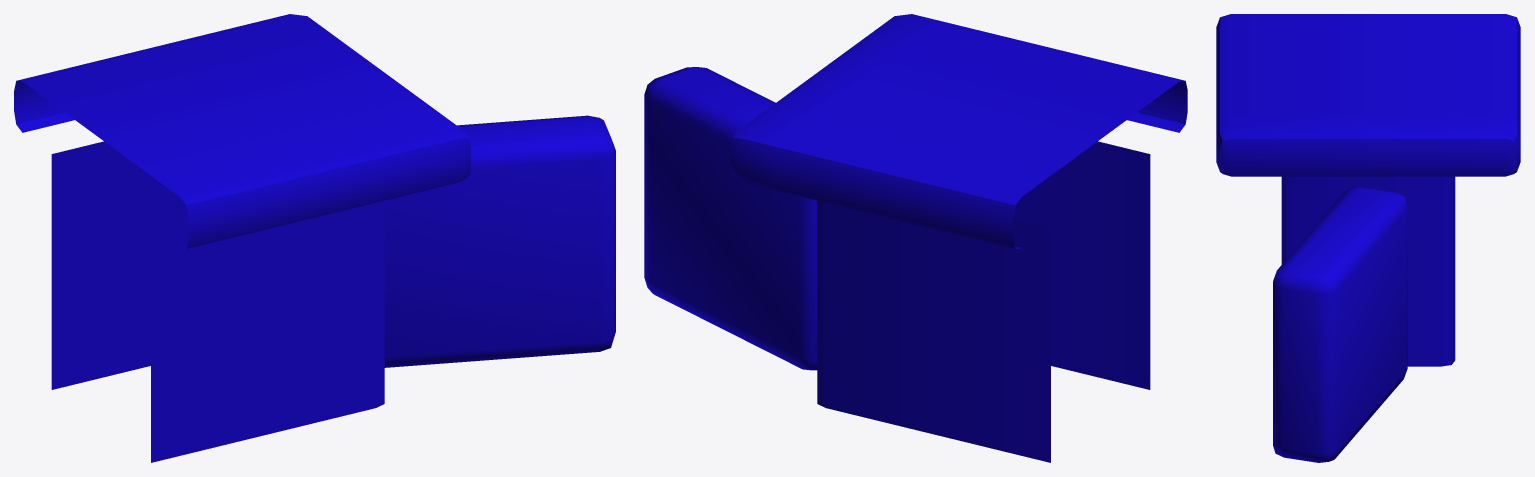
Rendered from SM_BarDoor.fbx.
3 renders of one model, left to right at view 1: azimuth 30°, elevation 25°; view 2: azimuth 150°, elevation 25°; view 3: azimuth 270°, elevation 25°, orthographic. The views are drawn at different scales.
Visible parts, largest first — view 1: SM_BarDoor; view 2: SM_BarDoor; view 3: SM_BarDoor.
Boxes of the visible parts, x1,y1,x2,y2 form: SM_BarDoor: [14, 14, 615, 462]; SM_BarDoor: [644, 14, 1187, 462]; SM_BarDoor: [1216, 14, 1520, 462].
Size of the model in its own units: 174 by 100 by 110.
